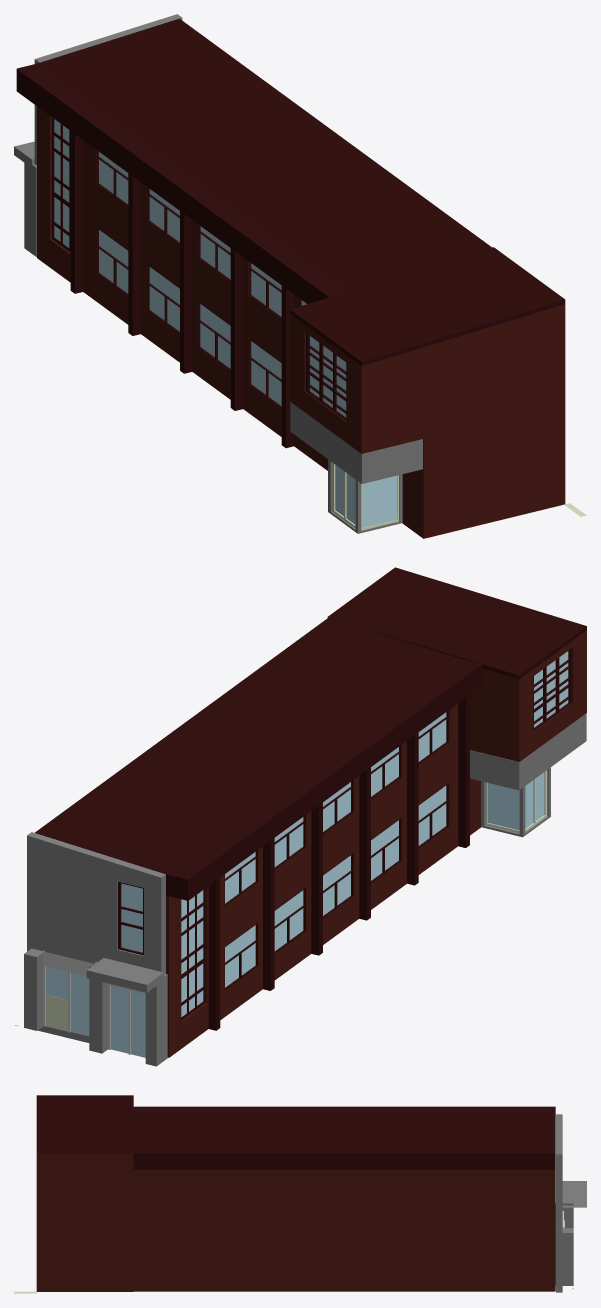
File: B4Restaurant.glb
The picture shows the model from 3 angles, top to bottom: view 1: azimuth 30°, elevation 25°; view 2: azimuth 150°, elevation 25°; view 3: azimuth 270°, elevation 25°; orthographic projection. The views are drawn at different scales.
Parts seen in each view (by area): view 1: B4Restaurant; view 2: B4Restaurant; view 3: B4Restaurant.
Boxes of the visible parts, x1,y1,x2,y2 form: B4Restaurant: (14,14,586,538); B4Restaurant: (14,567,586,1066); B4Restaurant: (14,1095,586,1293).
Size of the model in its own units: 51.76 by 48.03 by 180.
